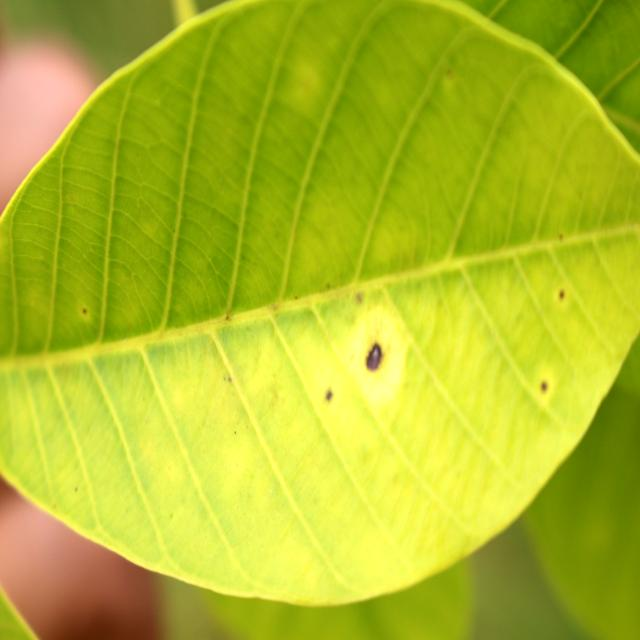Colletotrichum: (366, 342, 382, 371)
